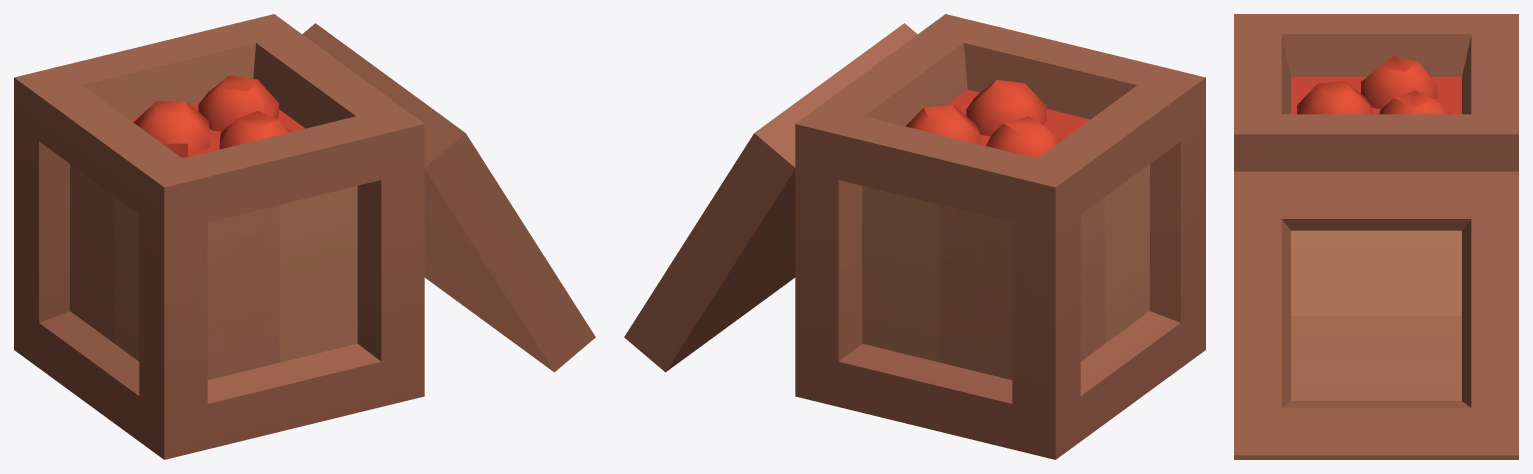
The model's file is kaykit-medieval-hexagon-pack-crate-open.glb.
The picture shows the model from 3 angles, left to right: view 1: azimuth 30°, elevation 25°; view 2: azimuth 150°, elevation 25°; view 3: azimuth 270°, elevation 25°; orthographic projection. The views are drawn at different scales.
Visible parts, largest first — view 1: crate_open; view 2: crate_open; view 3: crate_open.
Part boxes in pixels (bbox=[...]): crate_open: bbox=[14, 14, 595, 459]; crate_open: bbox=[624, 14, 1205, 459]; crate_open: bbox=[1234, 14, 1518, 459].
Bounding box in the file's own units: 0.3316 × 0.2056 × 0.2.
Materials: 1 (1 with a texture image).
